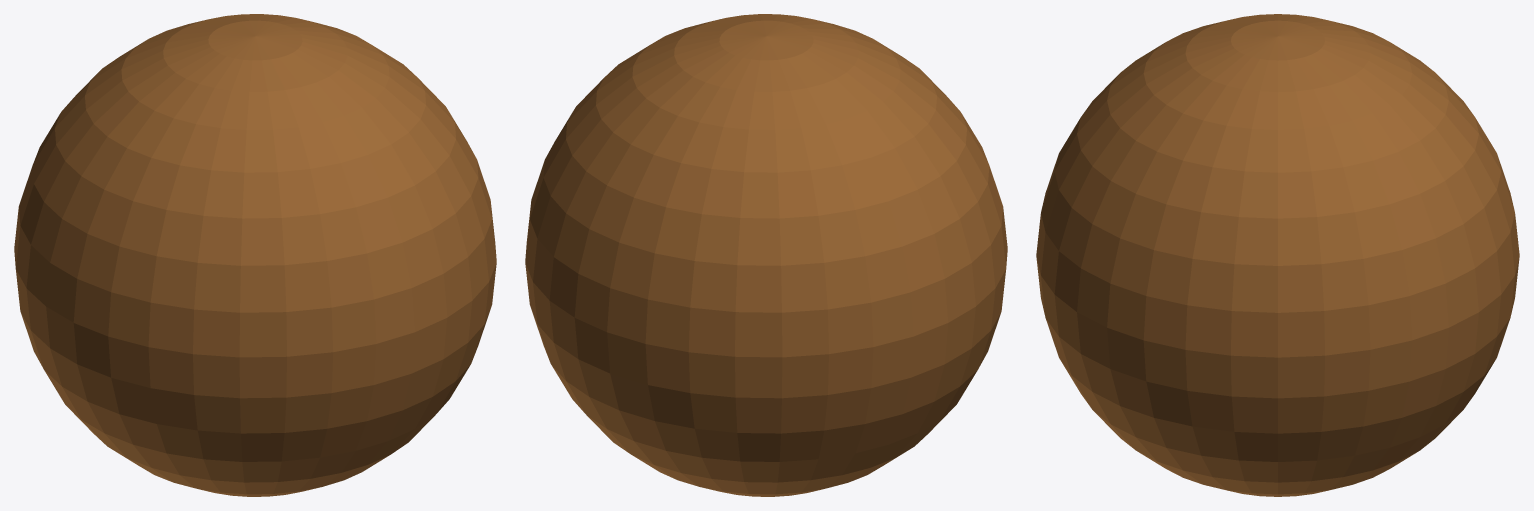
File: wood.obj
The picture shows the model from 3 angles, left to right: view 1: azimuth 30°, elevation 25°; view 2: azimuth 150°, elevation 25°; view 3: azimuth 270°, elevation 25°; orthographic projection.
Parts seen in each view (by area): view 1: Sphere_Wood; view 2: Sphere_Wood; view 3: Sphere_Wood.
Part boxes in pixels (x1,y1,x2,y2): Sphere_Wood: (14,14,496,496); Sphere_Wood: (525,14,1007,496); Sphere_Wood: (1036,14,1519,496).
Bounding box in the file's own units: 2 × 2 × 2.
